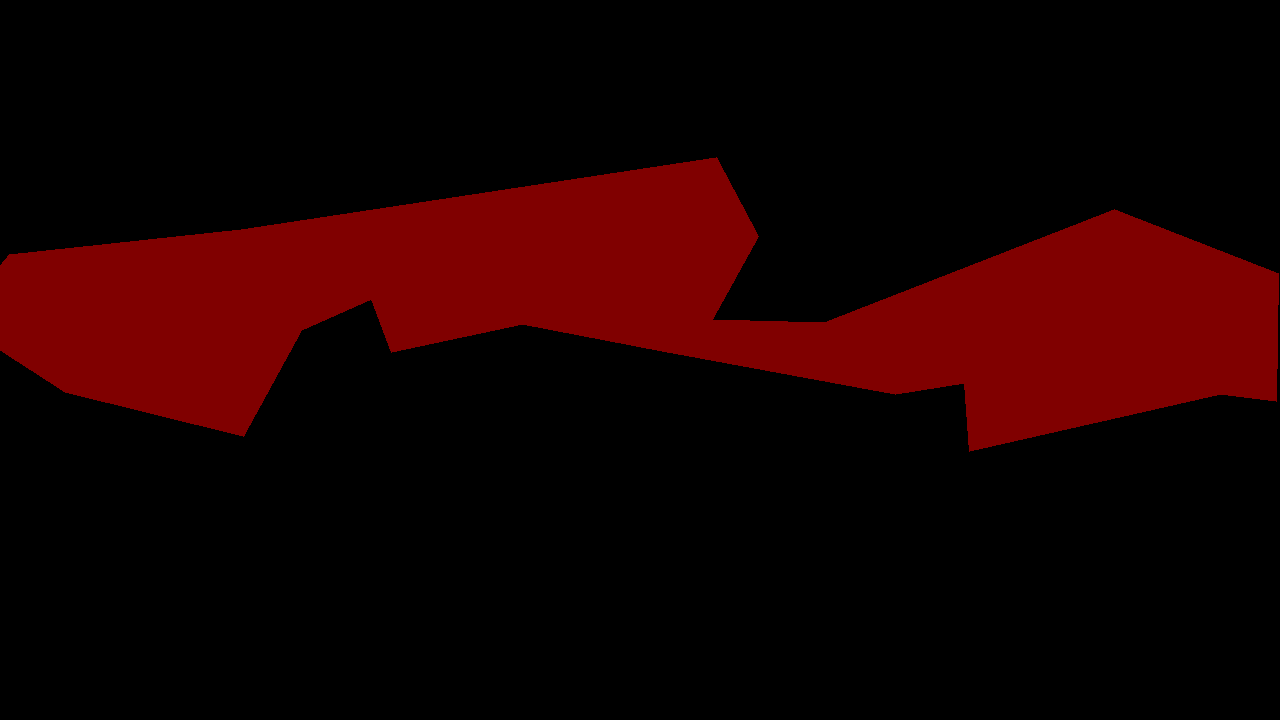fire: (0, 157, 1278, 451)
